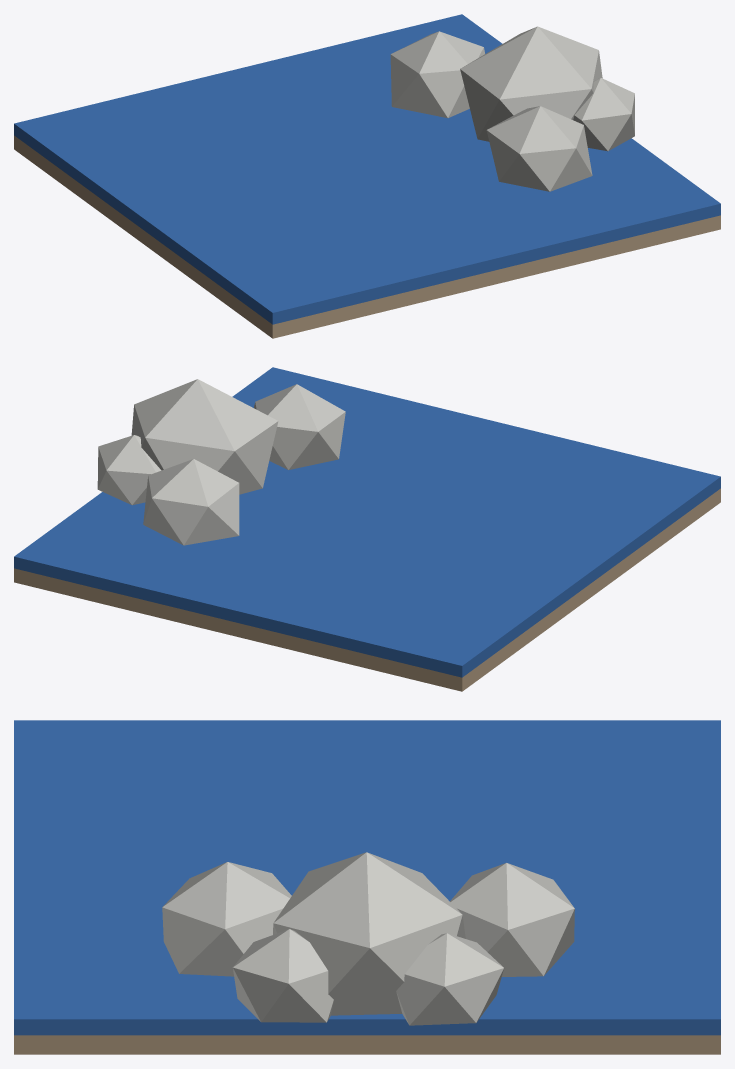
File: river_source.glb
3 views of the same model, one above another, from view 1: azimuth 30°, elevation 25°; view 2: azimuth 150°, elevation 25°; view 3: azimuth 270°, elevation 25° (orthographic). The views are drawn at different scales.
Visible parts, largest first — view 1: river_source_water, river_source, river_source_bed; view 2: river_source_water, river_source, river_source_bed; view 3: river_source_water, river_source, river_source_bed.
Part boxes in pixels (x1,y1,x2,y2): river_source_water: [14, 14, 720, 324]; river_source: [390, 26, 634, 191]; river_source_bed: [14, 135, 720, 338]; river_source_water: [14, 367, 720, 677]; river_source: [97, 379, 345, 545]; river_source_bed: [14, 488, 720, 691]; river_source_water: [14, 720, 720, 1035]; river_source: [162, 852, 574, 1025]; river_source_bed: [14, 1035, 720, 1054].
Bounding box in the file's own units: 2.08 × 0.5189 × 2.
